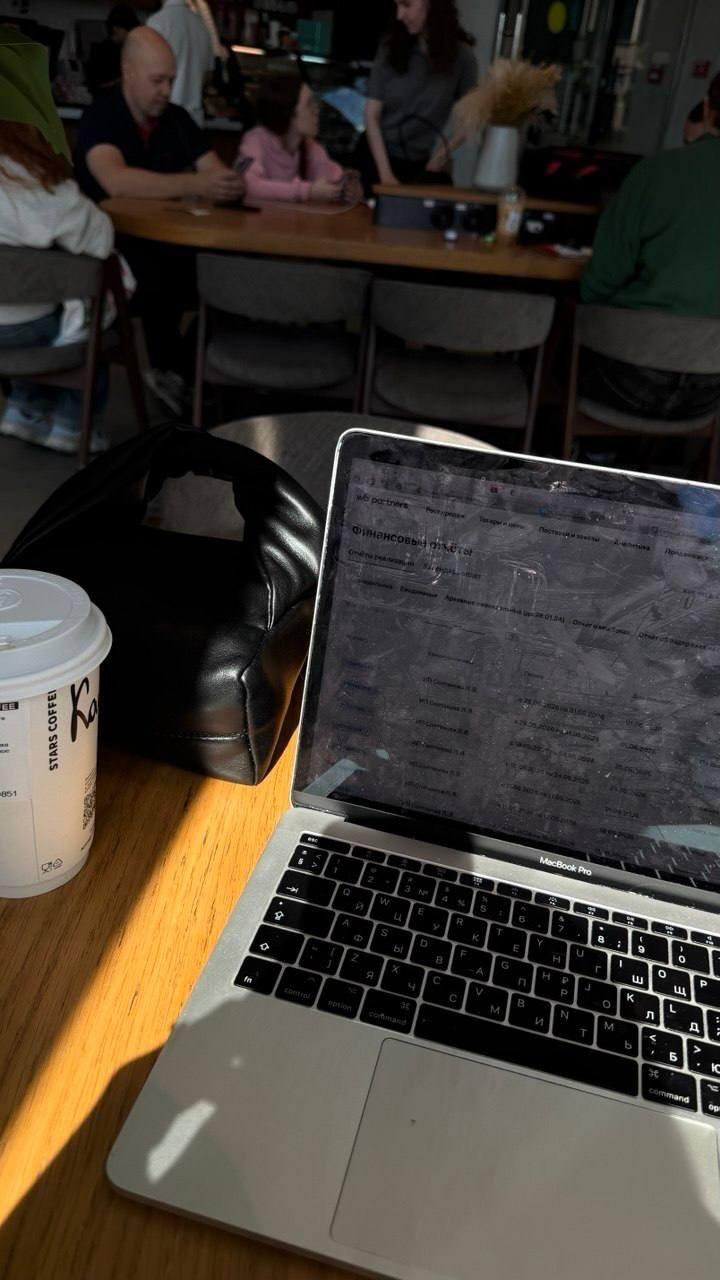cell phone: (216, 155, 254, 207), (331, 169, 352, 203)
laptop: (104, 426, 719, 1276)
